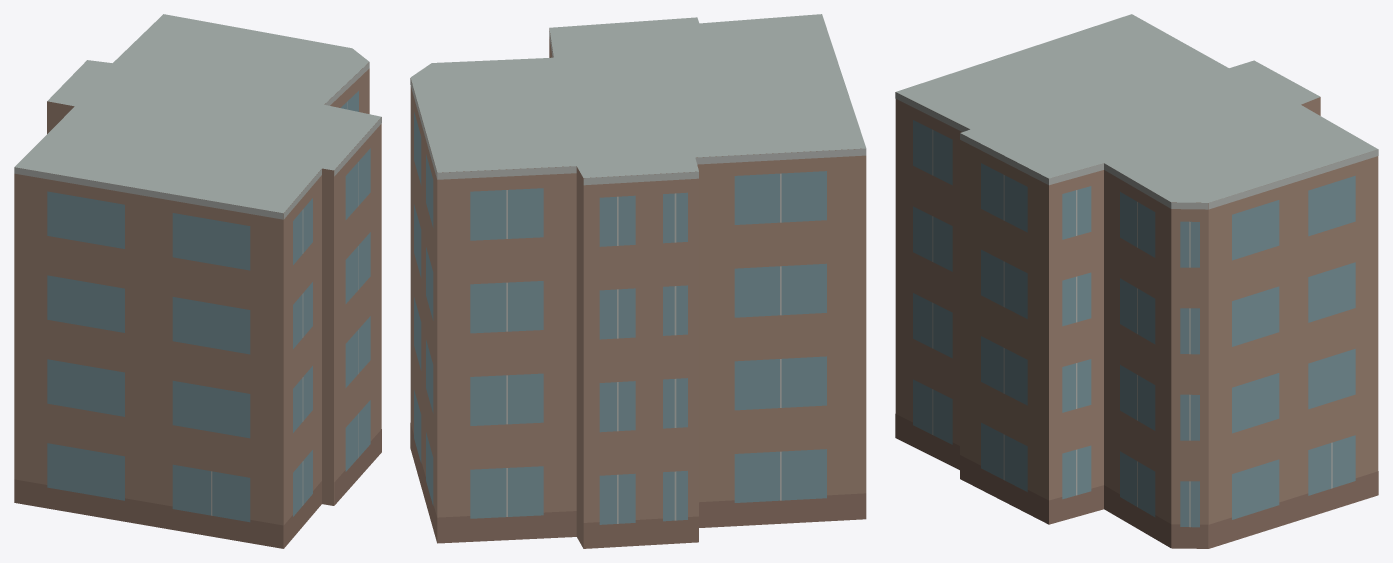
Rendered from survey-upis-32616548.glb.
3 renders of one model, left to right at view 1: azimuth 30°, elevation 25°; view 2: azimuth 150°, elevation 25°; view 3: azimuth 270°, elevation 25°, orthographic. The views are drawn at different scales.
Visible parts, largest first — view 1: survey-upis-32616548.tmp; view 2: survey-upis-32616548.tmp; view 3: survey-upis-32616548.tmp.
Boxes of the visible parts, left/top/right/bottom form: survey-upis-32616548.tmp: left=14, top=14, right=381, bottom=548; survey-upis-32616548.tmp: left=410, top=14, right=866, bottom=548; survey-upis-32616548.tmp: left=895, top=14, right=1378, bottom=548.
Bounding box in the file's own units: 14.88 × 12.7 × 16.07.
